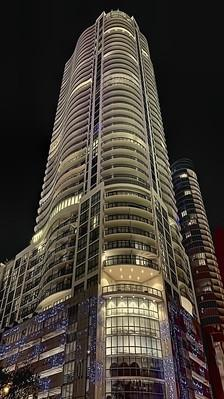building: (9, 8, 218, 398)
